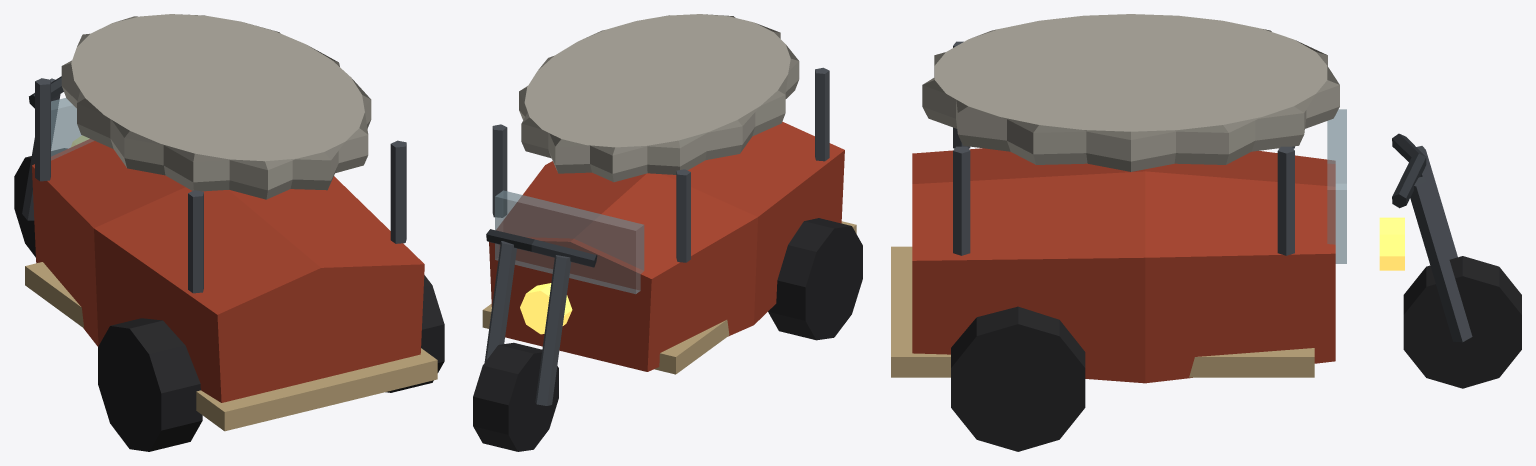
Rendered from rickshaw_combine.glb.
3 views of the same model, side by side, from view 1: azimuth 30°, elevation 25°; view 2: azimuth 150°, elevation 25°; view 3: azimuth 270°, elevation 25° (orthographic). The views are drawn at different scales.
Parts seen in each view (by area): view 1: rickshaw_combine_body; view 2: rickshaw_combine_body; view 3: rickshaw_combine_body.
Part boxes in pixels (<box>): rickshaw_combine_body: <box>14,14,444,451</box>; rickshaw_combine_body: <box>473,14,862,451</box>; rickshaw_combine_body: <box>891,14,1521,451</box>.
Bounding box in the file's own units: 2.46 × 2.39 × 4.47.
